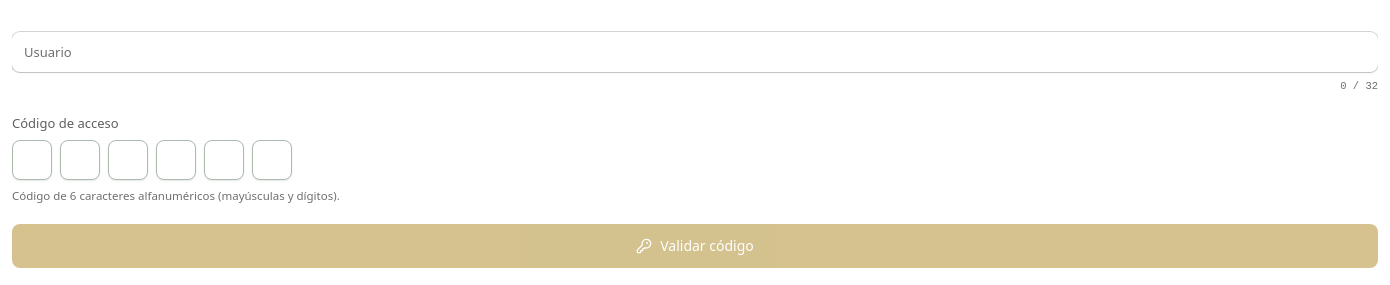
Test: LoginFormOtp (single-step username + OTP, gold-box restyle) › uppercases lowercase OTP input and auto-advances across the 6 boxes
The width and height of the screenshot is (1390, 285).
Type "admin" into the field with test id "login-username".
click(695, 52); type("admin")  # box [12,32,1378,72]
# typing into the first box should auto-advance focus to the next.
Type "a" into the field labelled "Código de acceso".
click(32, 160); type("a")  # box [12,140,52,180]
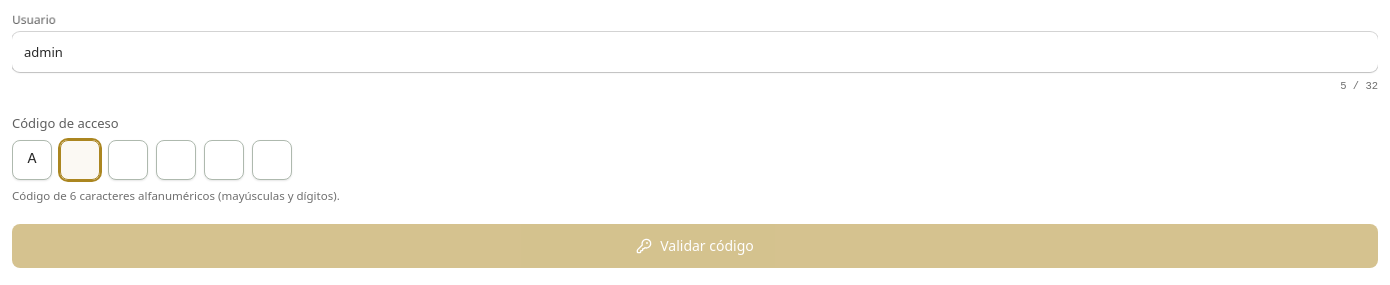
Type "b" into the field named "Digit 2 of 6".
click(80, 160); type("b")  # box [60,140,100,180]
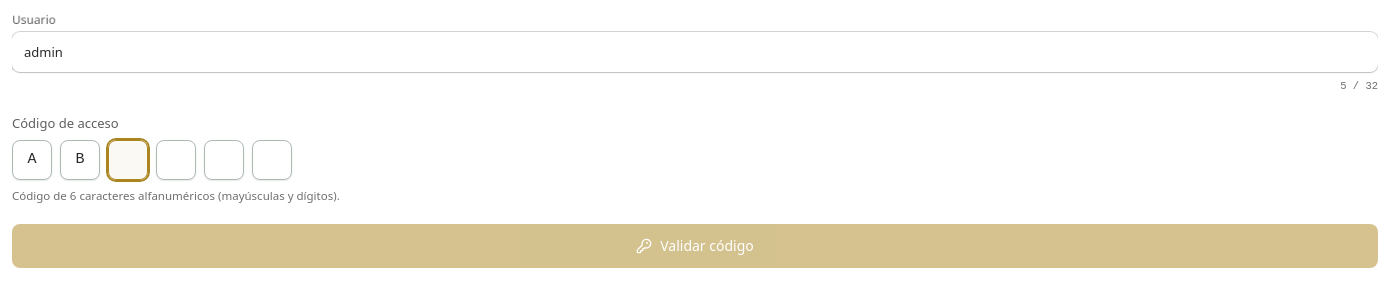
Type "c" into the field named "Digit 3 of 6".
click(128, 160); type("c")  # box [108,140,148,180]
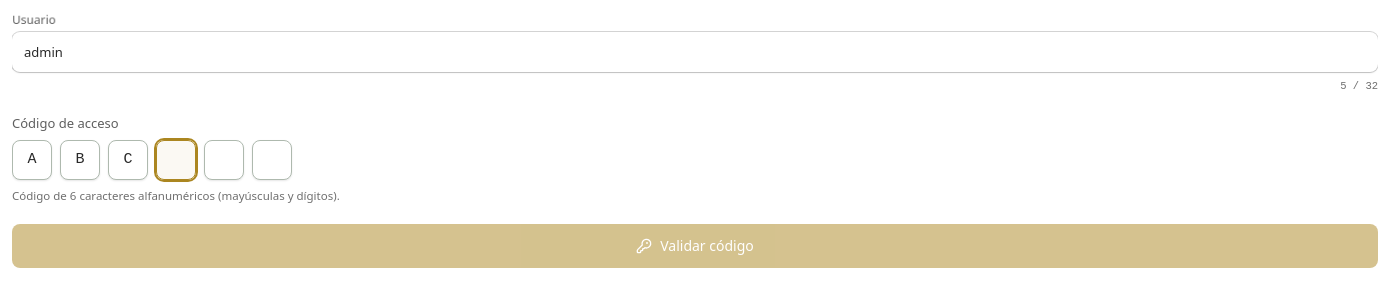
Type "1" into the field named "Digit 4 of 6".
click(176, 160); type("1")  # box [156,140,196,180]
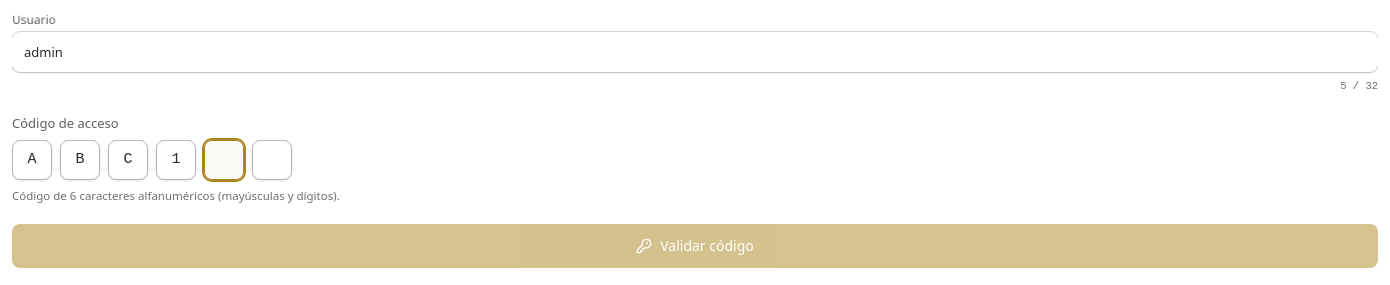
Type "2" into the field named "Digit 5 of 6".
click(224, 160); type("2")  # box [204,140,244,180]
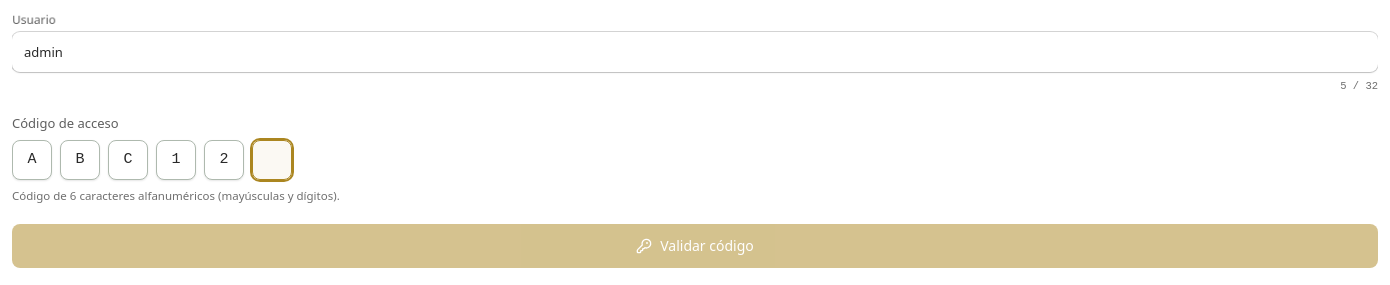
Type "3" into the field named "Digit 6 of 6".
click(272, 160); type("3")  # box [252,140,292,180]
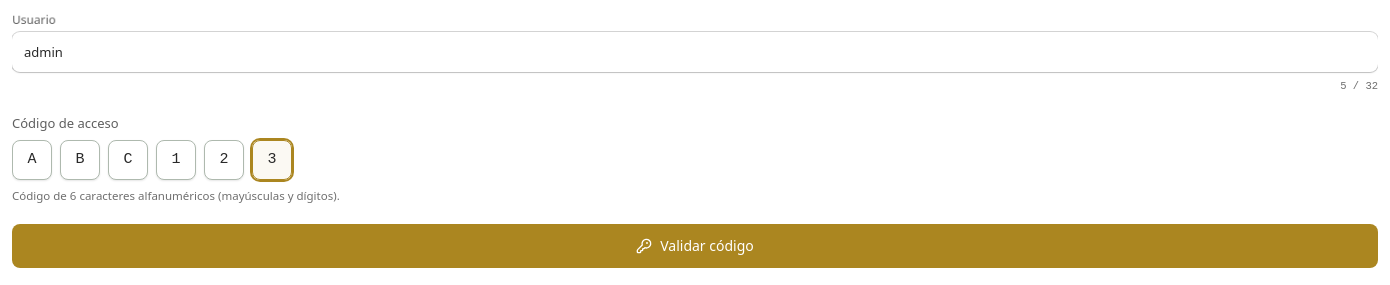
Result: the button with test id "login-submit" is enabled at [12,224,1378,268]
